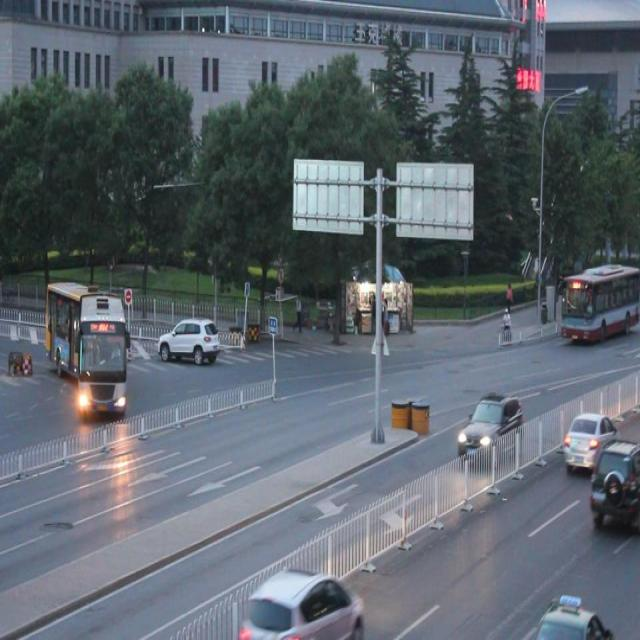car: (242, 567, 365, 640), (456, 387, 522, 463), (525, 590, 612, 640), (589, 440, 640, 525), (559, 411, 619, 474), (159, 313, 218, 366)
van: (44, 278, 130, 412)
